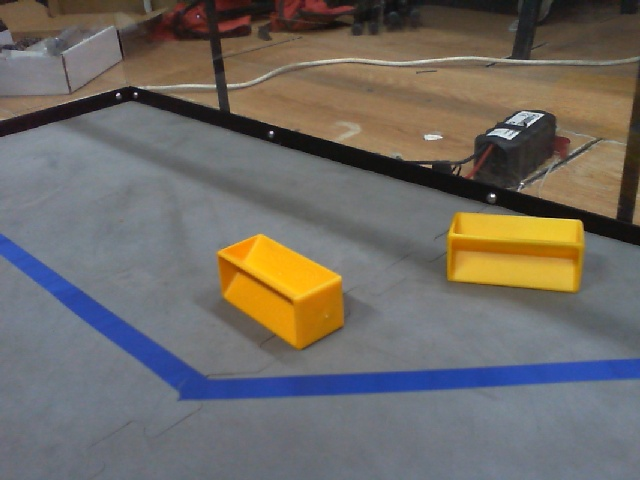YellowSample: (211, 228, 350, 353), (441, 211, 589, 298)
